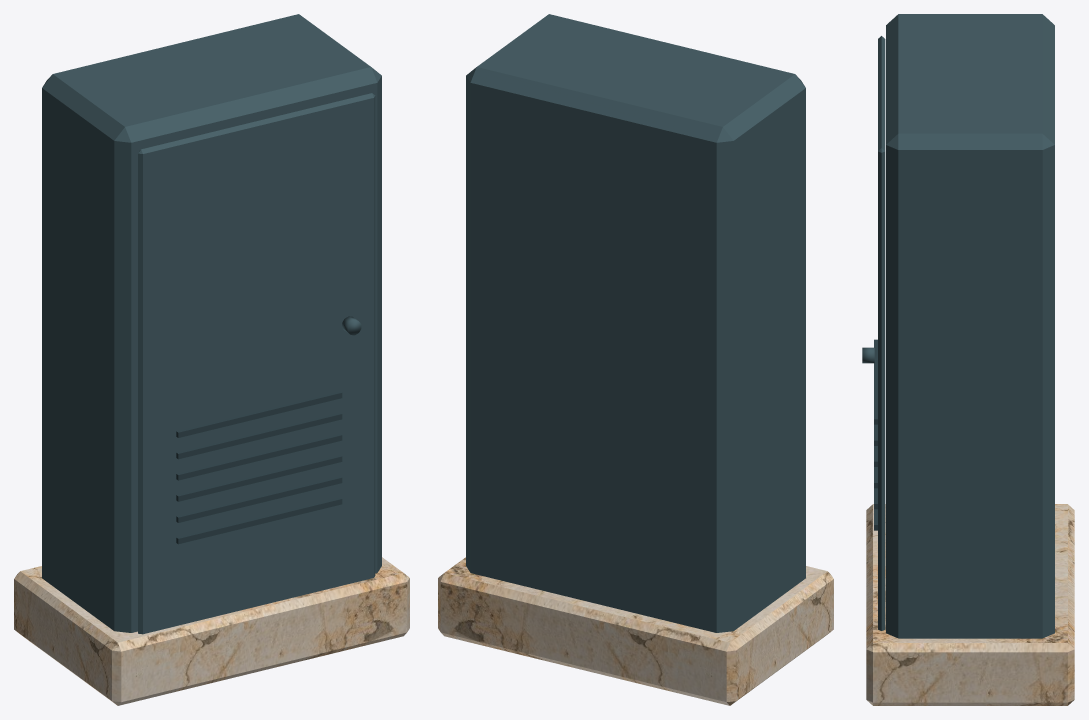
Rendered from electrical_cabinet.glb.
3 renders of one model, left to right at view 1: azimuth 30°, elevation 25°; view 2: azimuth 150°, elevation 25°; view 3: azimuth 270°, elevation 25°, orthographic.
Parts seen in each view (by area): view 1: electrical_cabinet__VVK_painted_steel, electrical_cabinet__VVK_concrete_CC0, electrical_cabinet__VVK_dark_glass; view 2: electrical_cabinet__VVK_painted_steel, electrical_cabinet__VVK_concrete_CC0; view 3: electrical_cabinet__VVK_painted_steel, electrical_cabinet__VVK_concrete_CC0, electrical_cabinet__VVK_dark_glass.
Part boxes in pixels (box(x1,y1,x2,y2)): electrical_cabinet__VVK_painted_steel: box(42, 14, 381, 634); electrical_cabinet__VVK_concrete_CC0: box(14, 557, 409, 705); electrical_cabinet__VVK_dark_glass: box(176, 391, 342, 544); electrical_cabinet__VVK_painted_steel: box(466, 14, 805, 632); electrical_cabinet__VVK_concrete_CC0: box(438, 557, 833, 705); electrical_cabinet__VVK_painted_steel: box(862, 14, 1054, 638); electrical_cabinet__VVK_concrete_CC0: box(866, 504, 1074, 705); electrical_cabinet__VVK_dark_glass: box(874, 339, 877, 530).
Size of the model in its own units: 0.69 by 1.25 by 0.428.
Materials: 3 (1 with a texture image).
